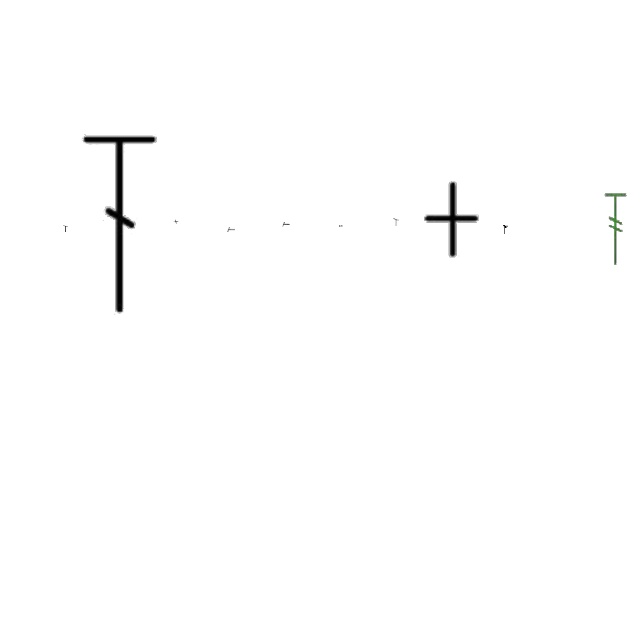chain: (339, 225, 343, 227)
double: (420, 181, 482, 259), (173, 220, 179, 224)
double treble: (80, 128, 162, 320), (504, 226, 508, 234)
enseble_chain: (282, 222, 290, 228), (393, 218, 399, 226), (227, 228, 235, 232), (64, 226, 68, 232)
fan: (602, 191, 630, 267)
